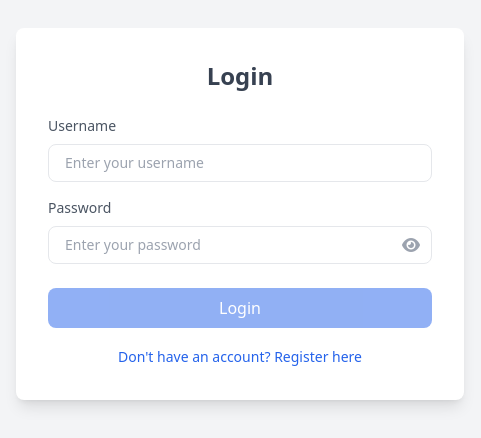
Scenario: Login Page › Form Validation › should show validation error for short username
Type "us" into the field named "username" at (240,163), box [48,144,432,182]
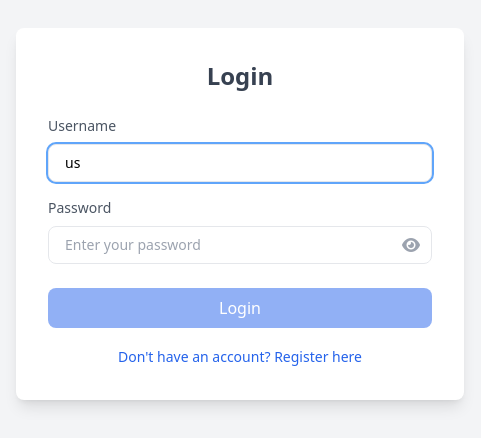
Leave the field named "username", box [48,144,432,182]
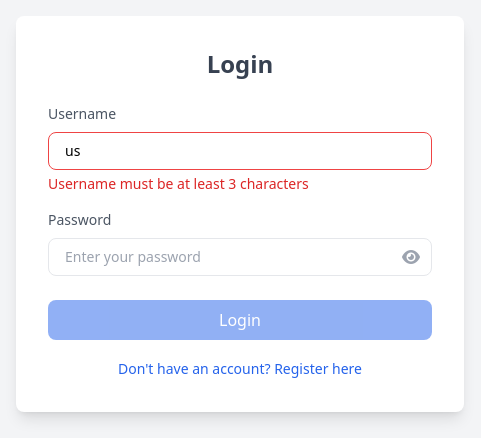
Check: the text "Username must be at least 3 characters" is shown, box [48,174,309,193]
